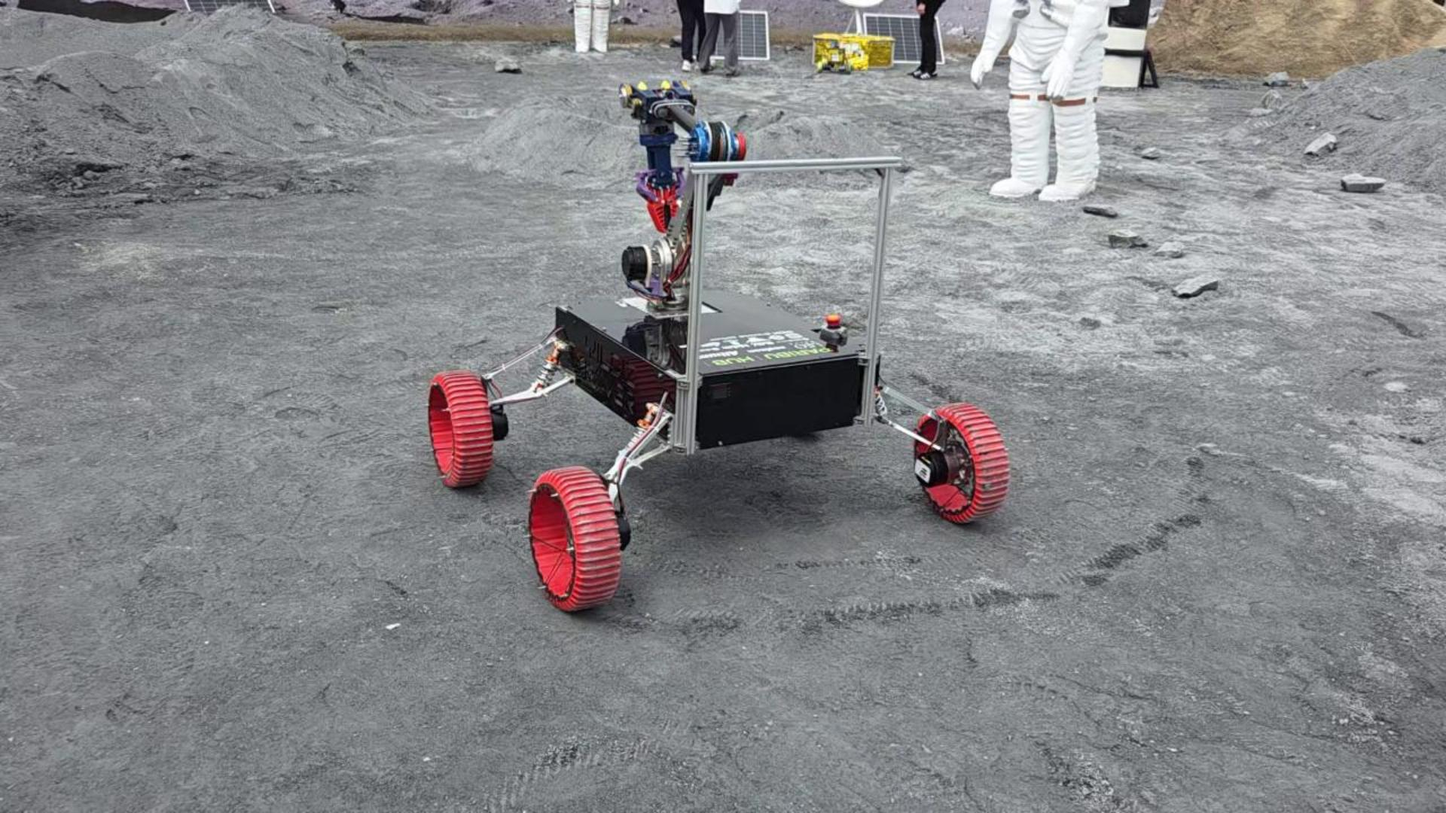rock: (1173, 278, 1218, 298), (1341, 173, 1385, 192), (1304, 132, 1336, 156), (1108, 229, 1148, 247), (1082, 204, 1117, 217), (1260, 89, 1281, 110), (1264, 71, 1290, 87), (1156, 242, 1183, 257), (494, 60, 522, 73), (1140, 147, 1160, 160)
